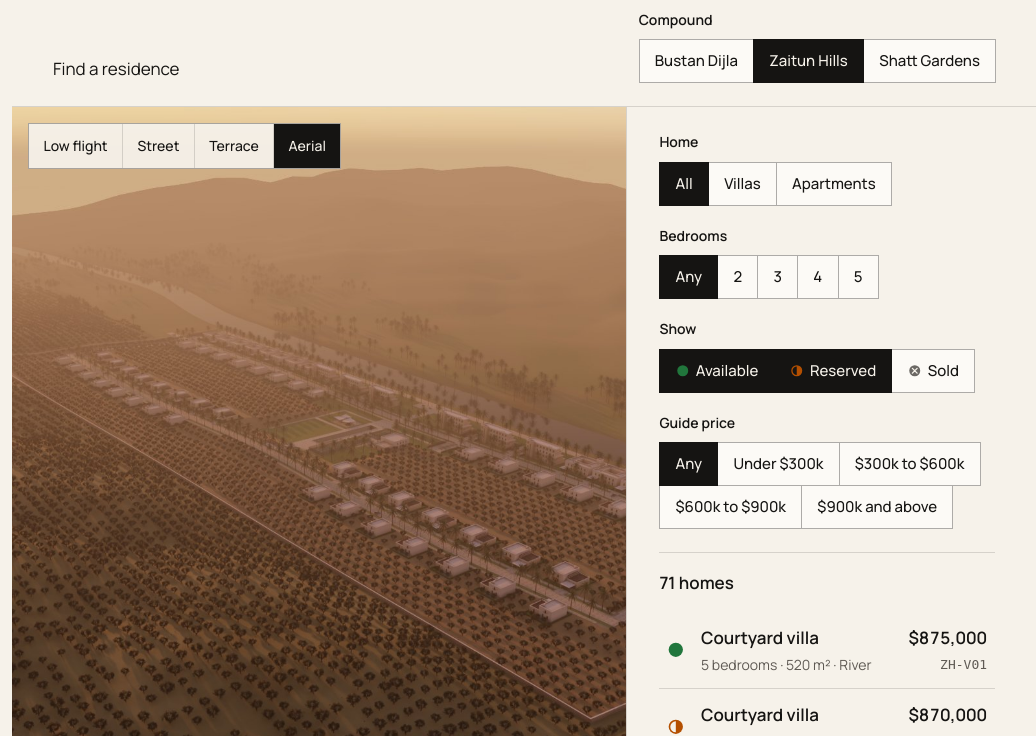
Finder › adds homes to compare from the details
This screenshot has width=1036, height=736.
Click the button "Courtyard villa 5 bedrooms · 520 m² · River $875,000 ZH-V01". click: (827, 650)
box: [659,612,995,688]
(page scrolled)
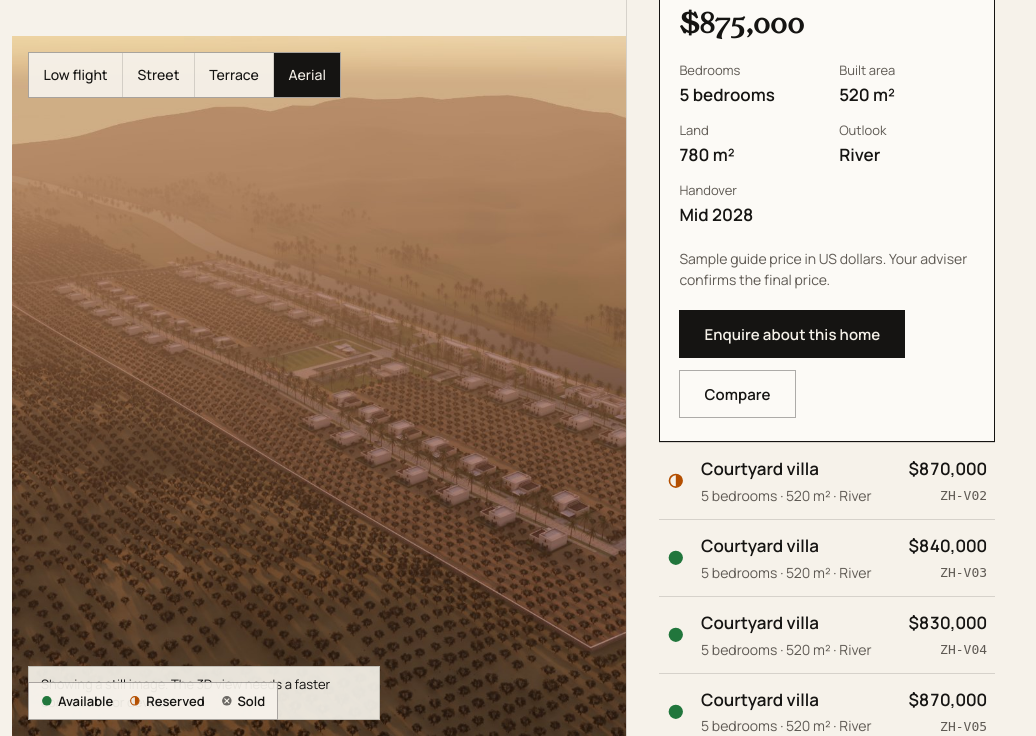
Click the button "Compare". click: (737, 394)
box: [679,370,796,418]
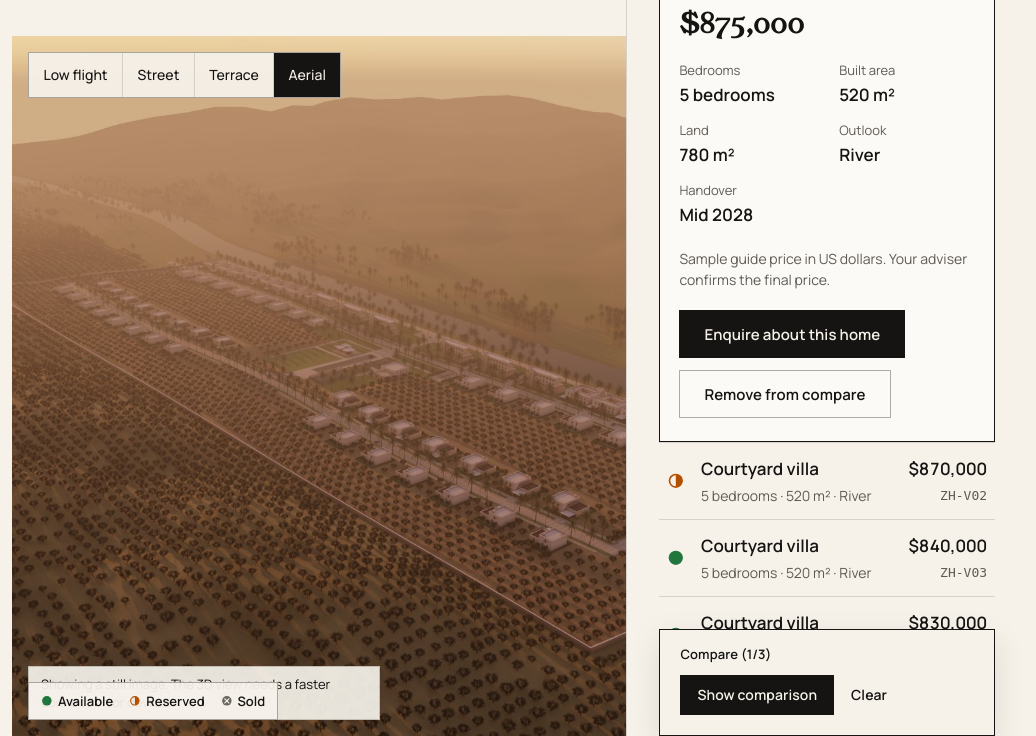
expect the element "Compare" is shown: met, box [659,629,995,735]
